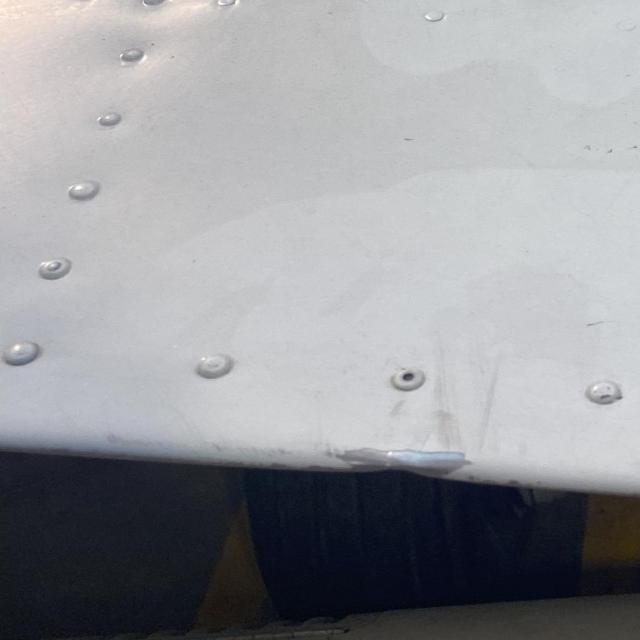Paint-off: (331, 450, 464, 480)
